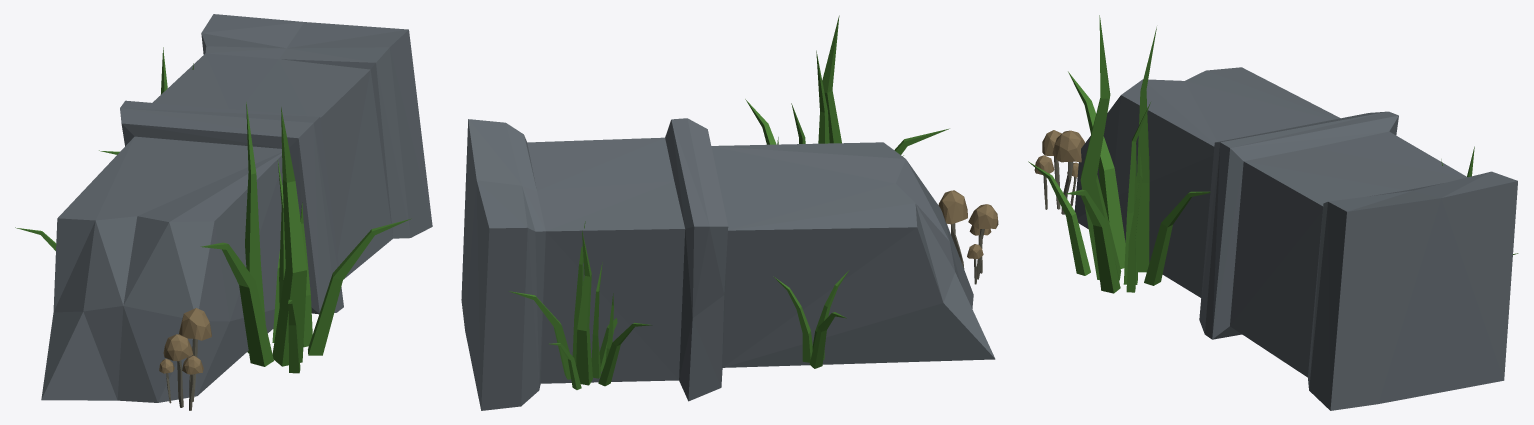
3 views of the same model, side by side, from view 1: azimuth 30°, elevation 25°; view 2: azimuth 150°, elevation 25°; view 3: azimuth 270°, elevation 25° (orthographic). The views are drawn at different scales.
Parts seen in each view (by area): view 1: Ruins3.001; view 2: Ruins3.001; view 3: Ruins3.001.
Part boxes in pixels (x1,y1,x2,y2): Ruins3.001: (15,14,432,410); Ruins3.001: (461,15,998,410); Ruins3.001: (1028,15,1518,410).
Size of the model in its own units: 185 by 111 by 171.
